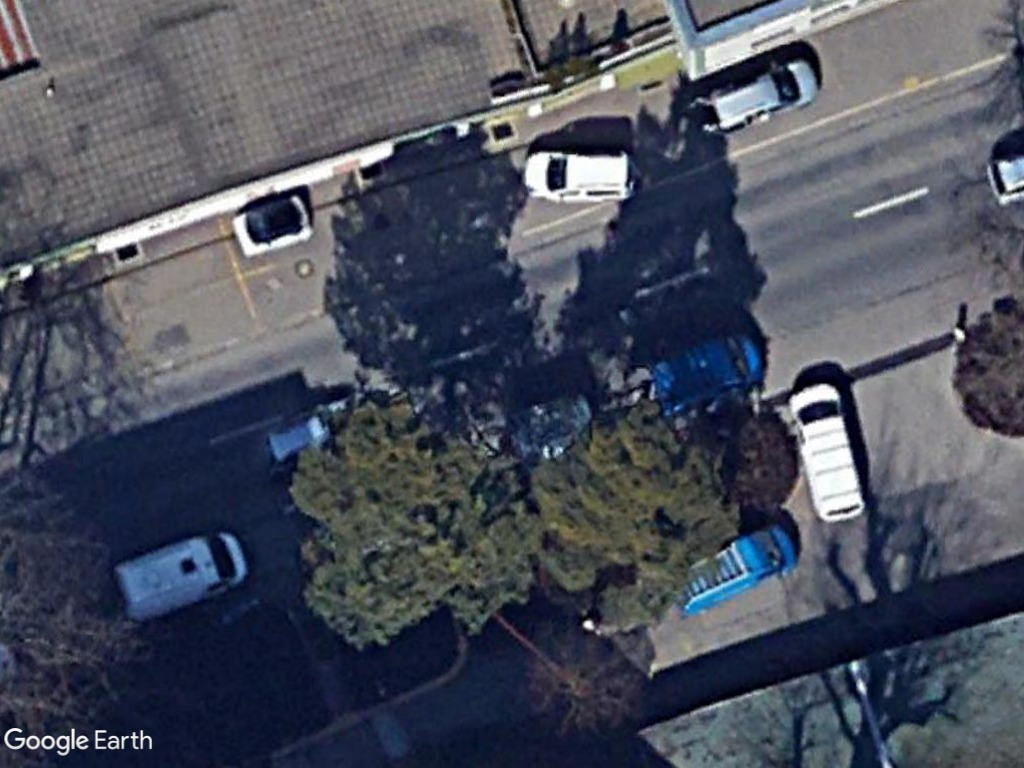car: (703, 56, 821, 133), (519, 146, 637, 208)
van: (111, 530, 249, 624), (783, 378, 868, 526), (647, 330, 769, 415)
